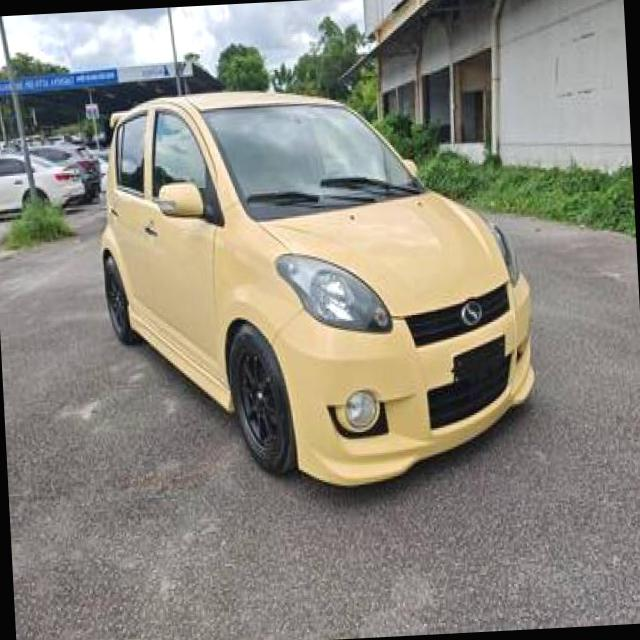PeroduaMyvi: (91, 70, 543, 500)
